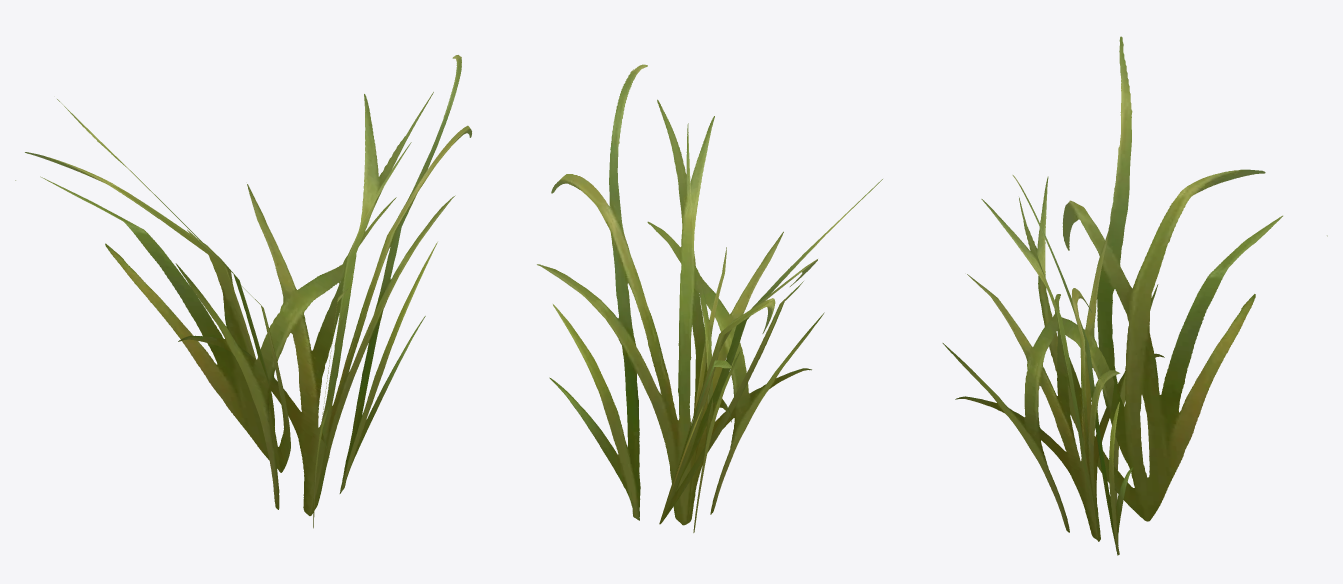
3 renders of one model, left to right at view 1: azimuth 30°, elevation 25°; view 2: azimuth 150°, elevation 25°; view 3: azimuth 270°, elevation 25°, orthographic. The views are drawn at different scales.
Size of the model in its own units: 1.38 by 1.56 by 1.26.
Materials: 1 (1 with a texture image).
